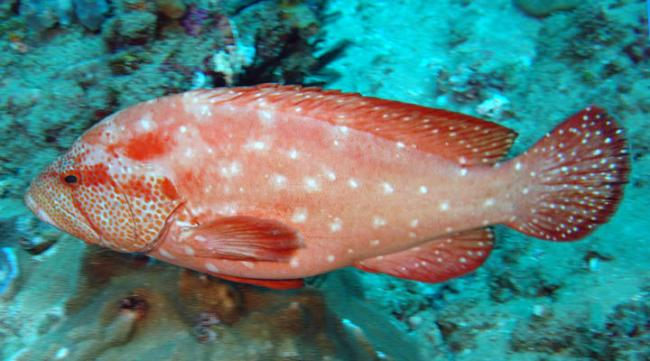fish: (26, 84, 630, 292)
